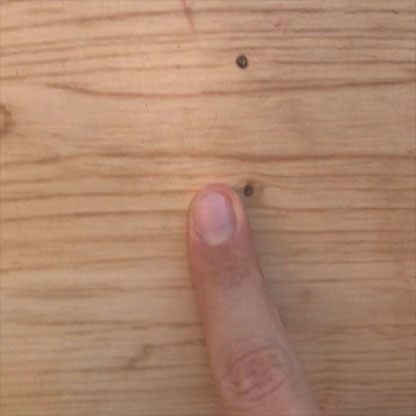fingertip: (181, 185, 252, 251)
